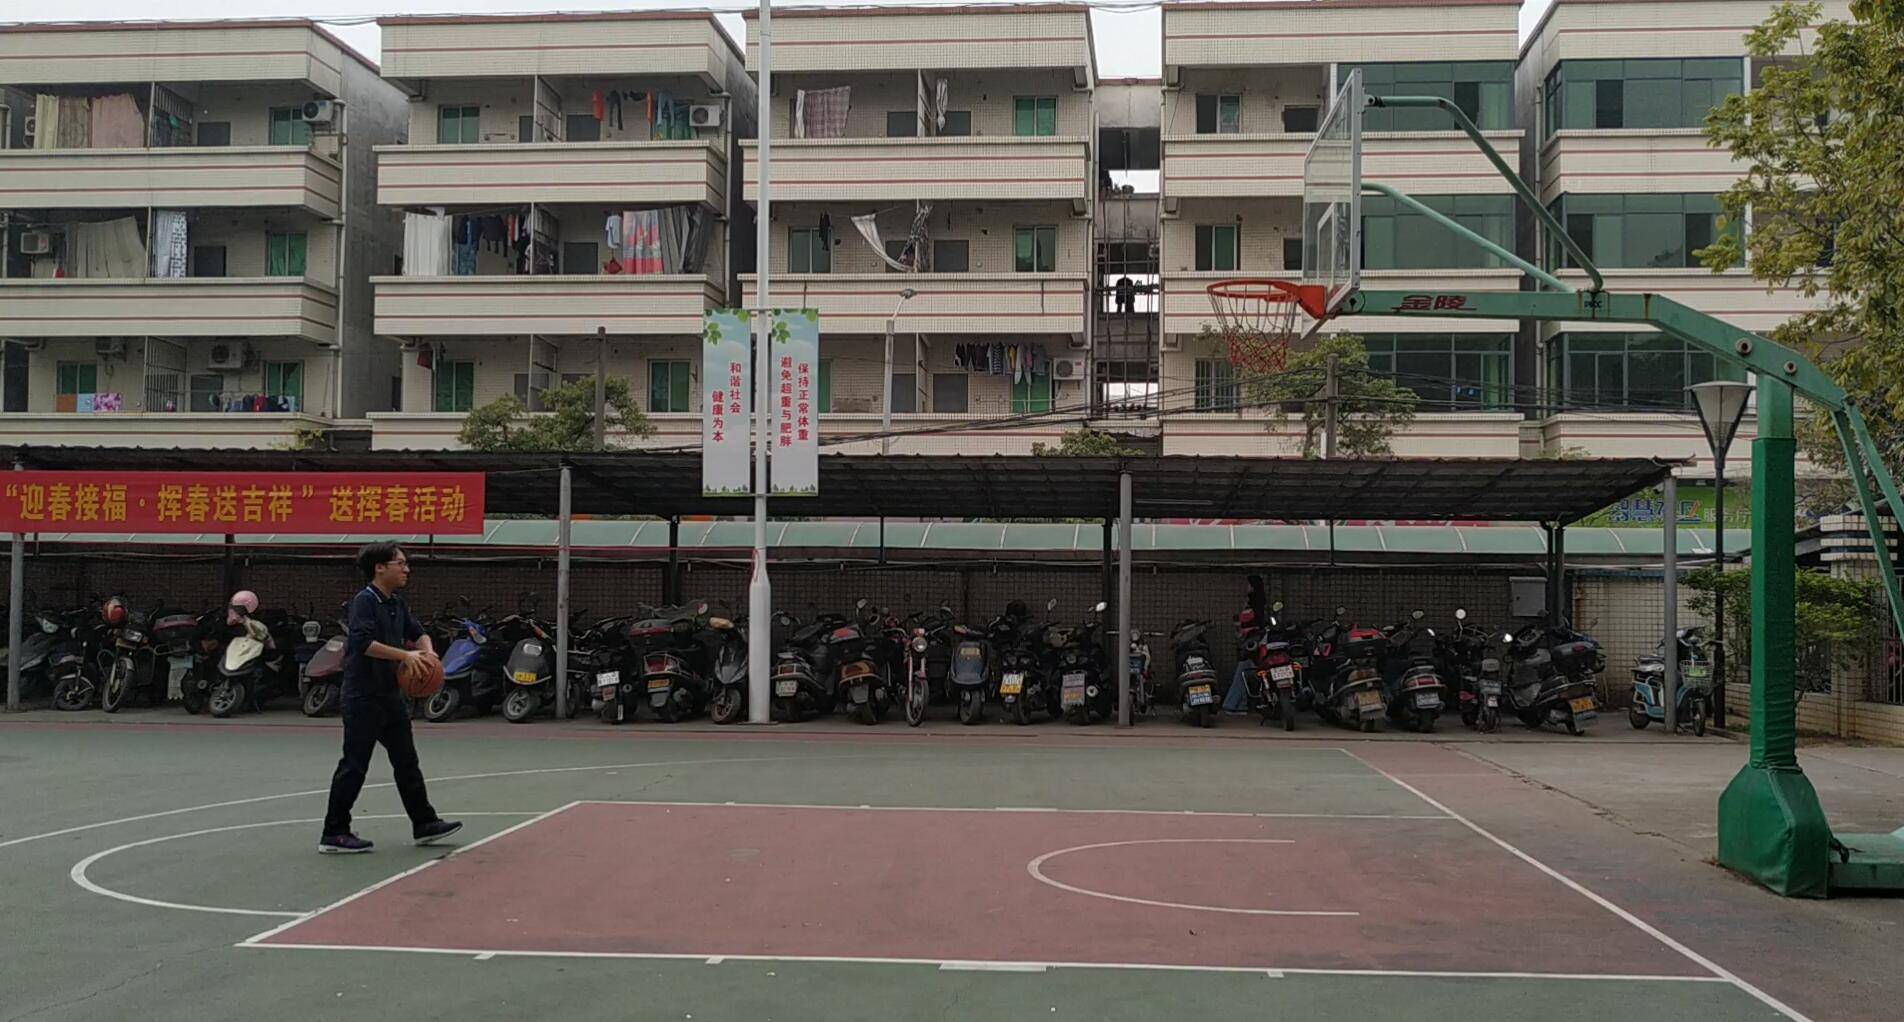basketball: (400, 647, 452, 710)
